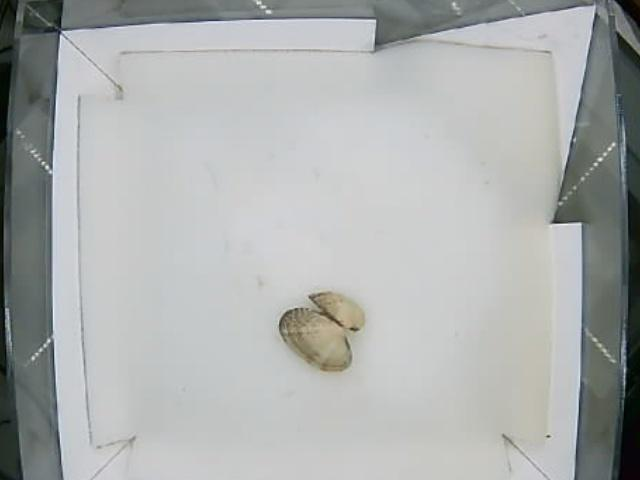Shell: (279, 294, 365, 371)
